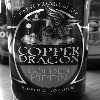beer: (7, 4, 89, 98)
